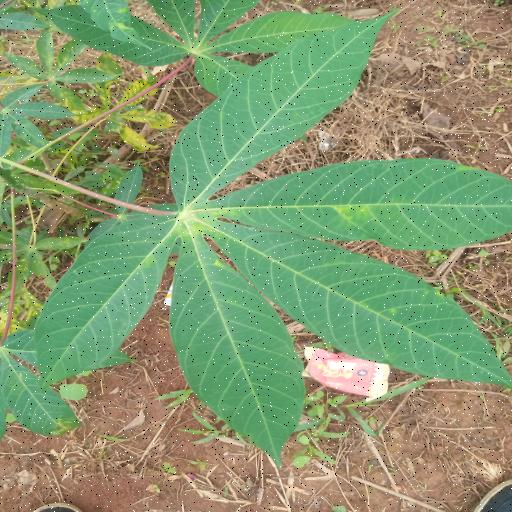Cassava_Healthy: (30, 18, 512, 453)
